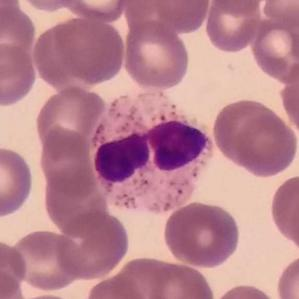Neutrophil: (91, 87, 219, 218)
RBC: (54, 208, 132, 282), (162, 199, 242, 269), (52, 14, 127, 86), (33, 84, 106, 155), (121, 19, 192, 92), (8, 227, 84, 293), (231, 108, 298, 179), (212, 96, 282, 163), (36, 126, 98, 200), (41, 172, 110, 238), (108, 254, 196, 299), (30, 18, 84, 88), (248, 11, 299, 85), (203, 0, 263, 55), (144, 258, 217, 299), (0, 144, 36, 220), (0, 40, 38, 108), (267, 170, 299, 250), (0, 3, 37, 63), (151, 0, 212, 34), (83, 273, 152, 299), (277, 59, 299, 137), (0, 236, 28, 297), (57, 0, 133, 22), (208, 281, 283, 299), (273, 252, 299, 299), (259, 0, 299, 28), (14, 0, 82, 14), (206, 0, 271, 14), (0, 268, 27, 299)
